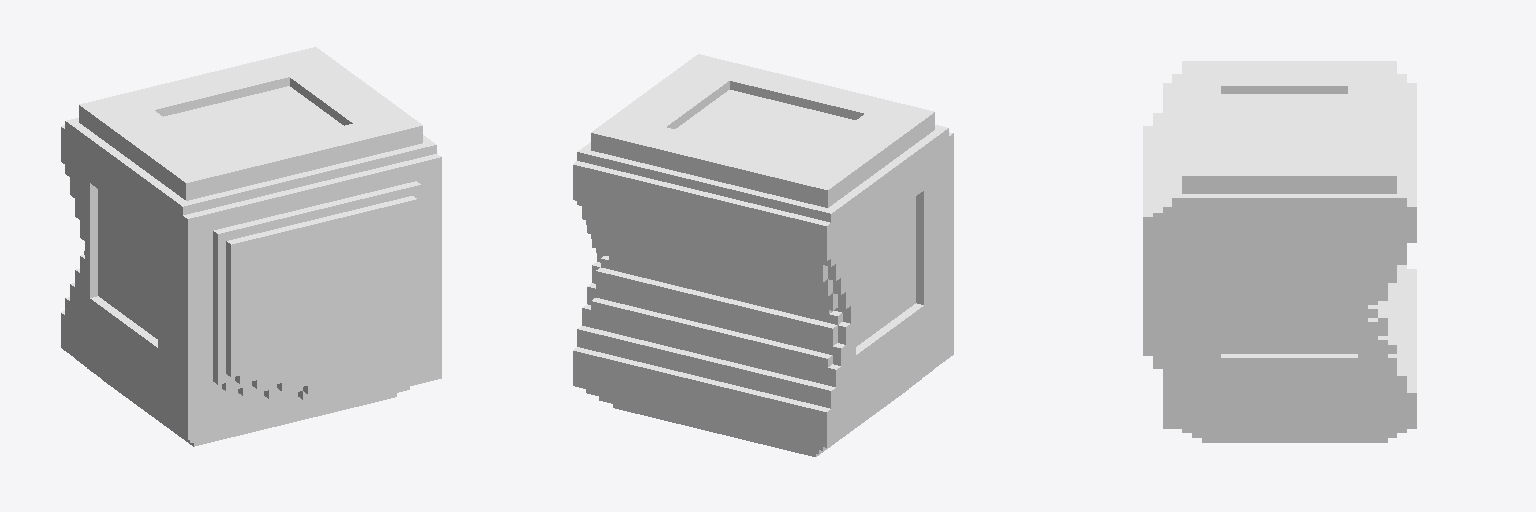
File: armor.obj
3 views of the same model, side by side, from view 1: azimuth 30°, elevation 25°; view 2: azimuth 150°, elevation 25°; view 3: azimuth 270°, elevation 25° (orthographic).
Visible parts, largest first — view 1: armor; view 2: armor; view 3: armor.
Part boxes in pixels (x1,y1,x2,y2): armor: (61,47,441,446); armor: (573,54,953,456); armor: (1143,61,1416,442).
Bounding box in the file's own units: 30 × 31 × 28.